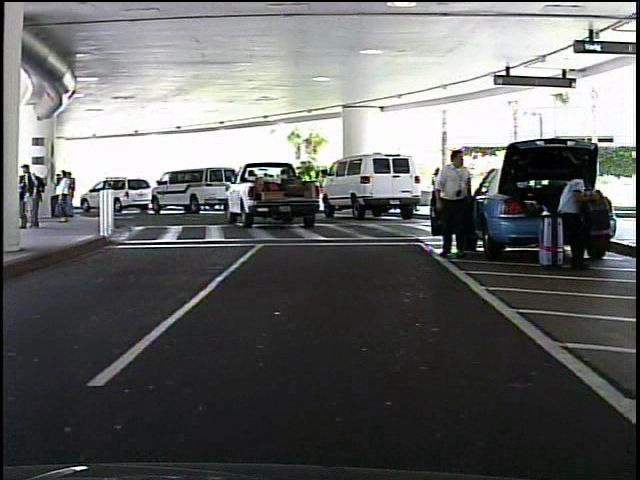person: (428, 144, 476, 261), (548, 167, 599, 271)
